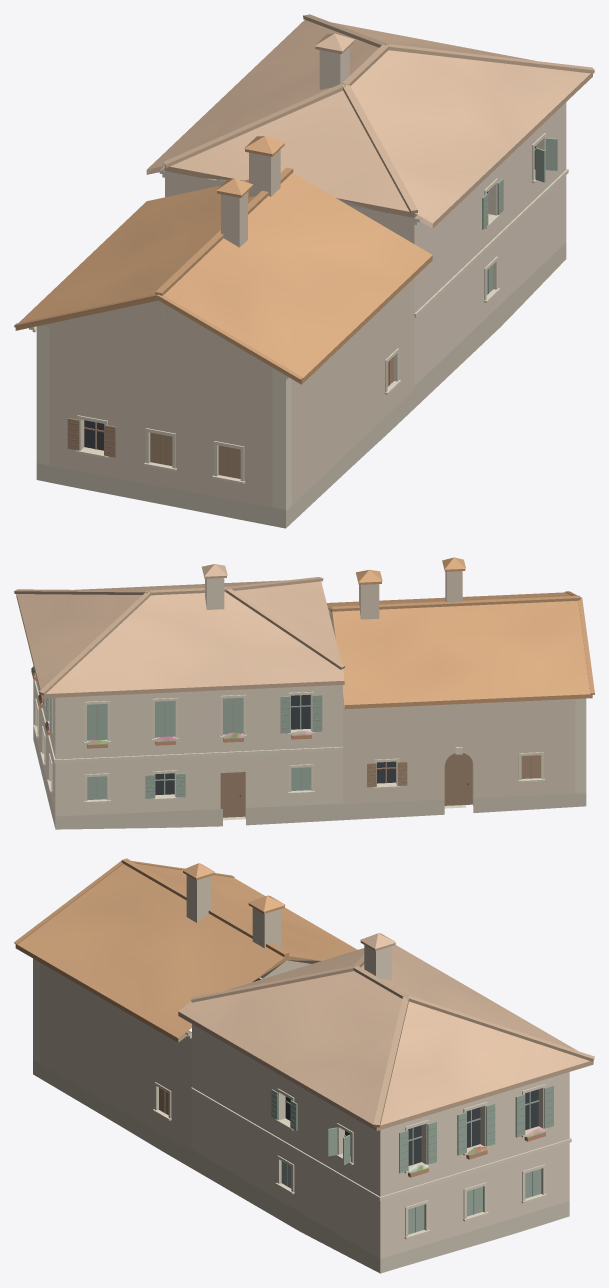
File: SM_BM_BVV_Farm_Poggio.glb
3 renders of one model, top to bottom at view 1: azimuth 30°, elevation 25°; view 2: azimuth 150°, elevation 25°; view 3: azimuth 270°, elevation 25°, orthographic. The views are drawn at different scales.
Parts seen in each view (by area): view 1: SM_BM_BVV_Farm_Poggio; view 2: SM_BM_BVV_Farm_Poggio; view 3: SM_BM_BVV_Farm_Poggio.
Part boxes in pixels (x1,y1,x2,y2): SM_BM_BVV_Farm_Poggio: [14, 14, 594, 528]; SM_BM_BVV_Farm_Poggio: [14, 557, 594, 829]; SM_BM_BVV_Farm_Poggio: [14, 858, 594, 1273].
Size of the model in its own units: 26.7 by 11.13 by 23.58.
